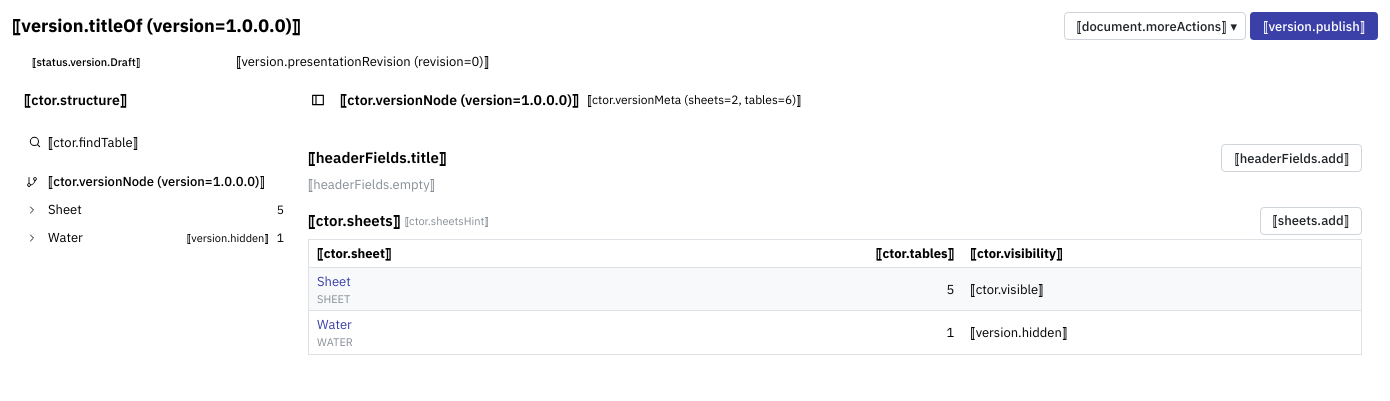
TemplateVersionPage: дерево конструктора й одна таблиця в робочій області (UI-36) › корінь дерева — огляд версії з аркушами; клац по аркушу відкриває його огляд
The image size is (1390, 401).
Click the button "Sheet" at {"x": 334, "y": 283}, box left=317, top=273, right=351, bottom=292
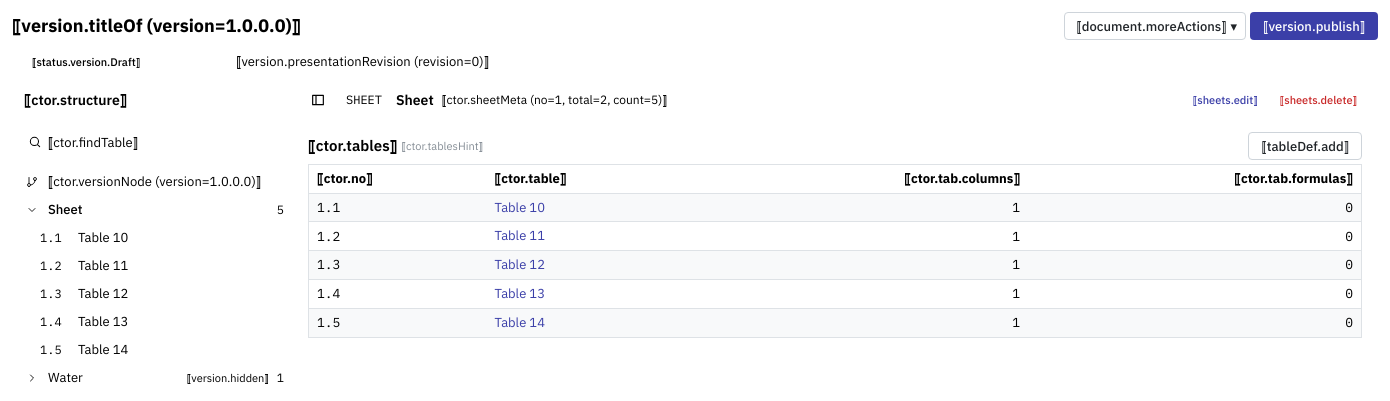
Expected: the text "1.4" is shown, left=308, top=280, right=487, bottom=308
